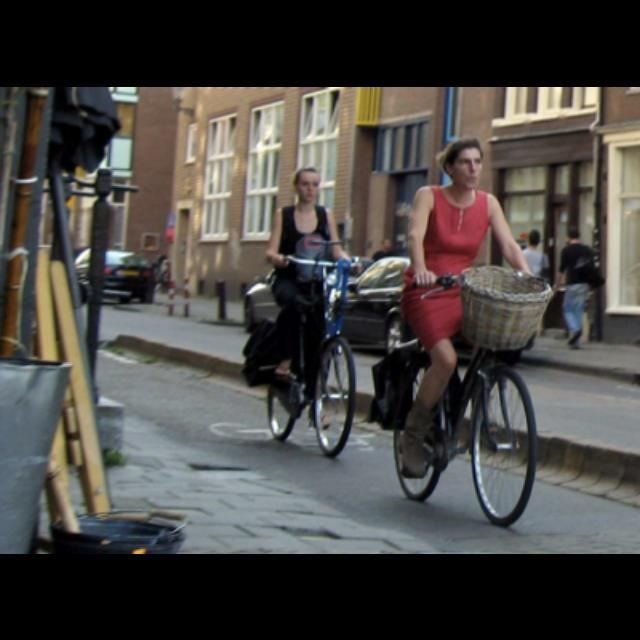Without Helmet: (436, 131, 488, 197), (288, 162, 326, 204)
